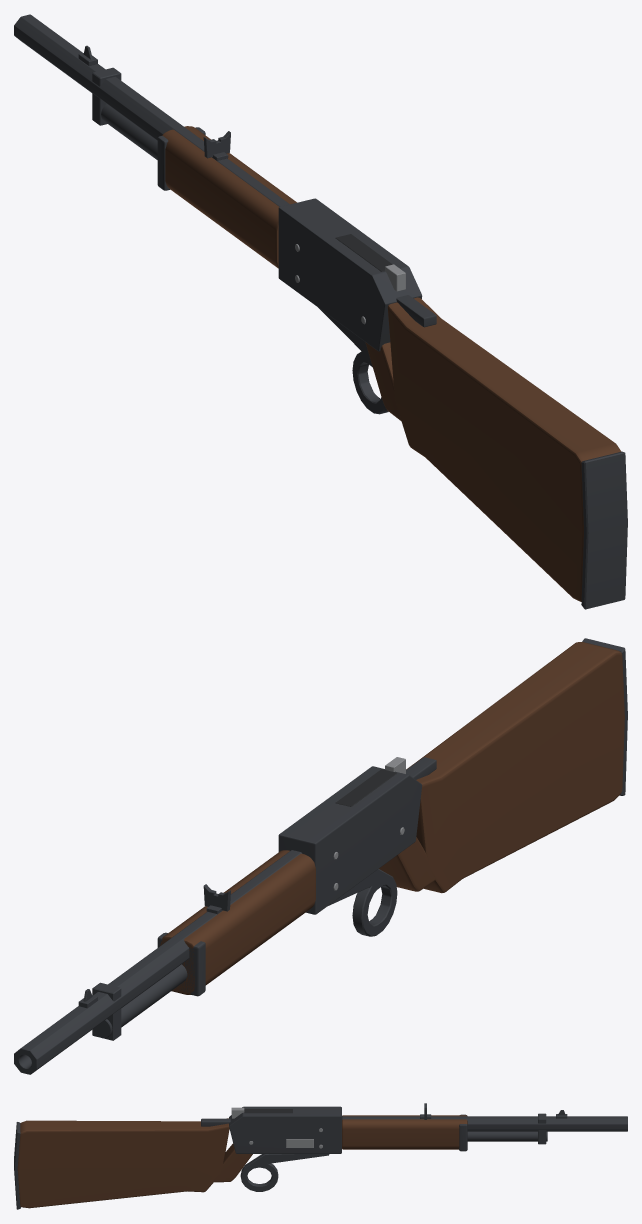
Rendered from wpn_shrike_44.glb.
3 renders of one model, top to bottom at view 1: azimuth 30°, elevation 25°; view 2: azimuth 150°, elevation 25°; view 3: azimuth 270°, elevation 25°, orthographic. The views are drawn at different scales.
Parts seen in each view (by area): view 1: Stock, Receiver, Forend, ButtPlate, Barrel, MagTube, Lever, Wrist, ReceiverDetails, Buckhorn; view 2: Stock, Receiver, Forend, Barrel, Lever, MagTube, Wrist, ReceiverDetails, Buckhorn, ButtPlate; view 3: Stock, Receiver, Forend, Barrel, Lever, MagTube, Wrist, ReceiverDetails, ButtPlate, Buckhorn.
Boxes of the visible parts, box(x1,y1,x2,y2) form: Stock: box(387, 297, 621, 601); Receiver: box(278, 198, 436, 351); Forend: box(157, 126, 296, 268); ButtPlate: box(581, 451, 627, 609); Barrel: box(14, 14, 289, 206); MagTube: box(92, 67, 157, 159); Lever: box(318, 307, 388, 414); Wrist: box(365, 342, 401, 420); ReceiverDetails: box(295, 234, 405, 324); Buckhorn: box(78, 45, 230, 160); Stock: box(406, 642, 624, 893); Receiver: box(278, 757, 436, 914); Forend: box(157, 850, 315, 996); Barrel: box(14, 850, 302, 1074); Lever: box(328, 869, 397, 936); MagTube: box(92, 964, 187, 1040); Wrist: box(379, 837, 435, 891); ReceiverDetails: box(333, 757, 405, 890); Buckhorn: box(78, 884, 230, 1008); ButtPlate: box(582, 638, 627, 795); Stock: box(17, 1118, 229, 1208); Receiver: box(201, 1106, 341, 1153); Forend: box(342, 1114, 467, 1151); Barrel: box(342, 1116, 627, 1131); Lever: box(240, 1154, 329, 1191); MagTube: box(467, 1113, 547, 1144); Wrist: box(214, 1143, 252, 1182); ReceiverDetails: box(231, 1107, 322, 1148); ButtPlate: box(14, 1122, 20, 1209); Buckhorn: box(420, 1103, 567, 1119).
Bounding box in the file's own units: 0.037 × 0.1555 × 0.88.
